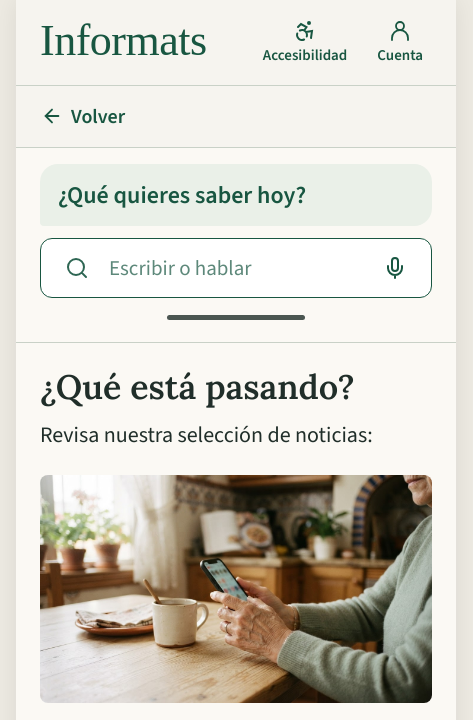
Test: Informats - Pantalla «Inicio · Hoy, con claridad» › shows empty state when no results match and restores on reset
This screenshot has width=473, height=720.
Later steps or results of the test are not shown.
Type "astronautas" into the field with placeholder "Escribir o hablar" at point(236, 268), box [109, 254, 363, 282]
(page scrolled)
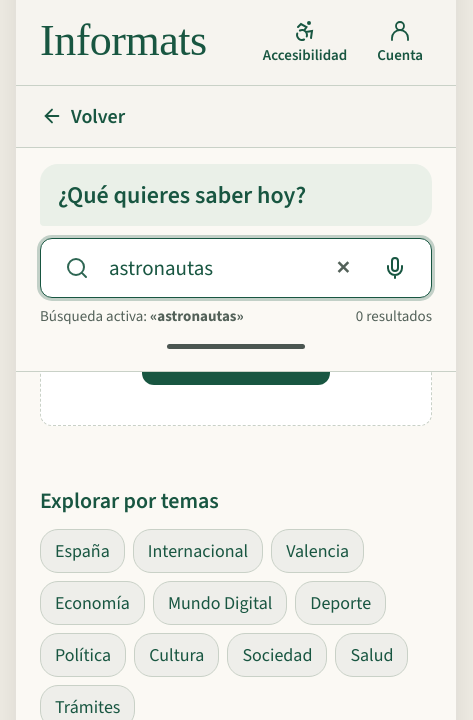
Check: the heading "No encontramos noticias" is shown, box [93, 246, 379, 280]
